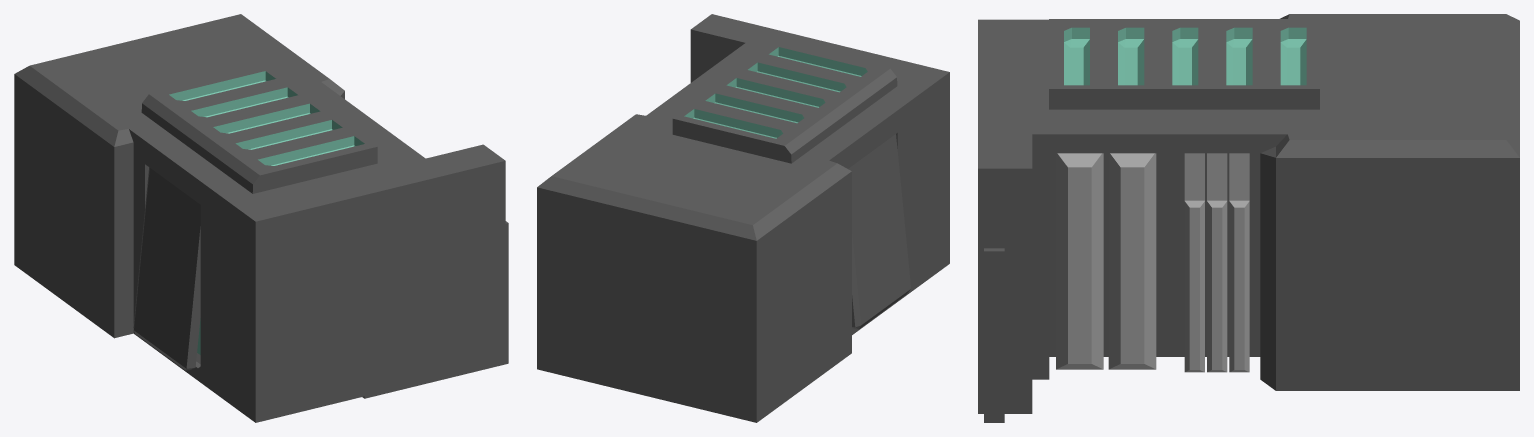
Rendered from NotAPlug0.fbx.
3 renders of one model, left to right at view 1: azimuth 30°, elevation 25°; view 2: azimuth 150°, elevation 25°; view 3: azimuth 270°, elevation 25°, orthographic. The views are drawn at different scales.
Parts seen in each view (by area): view 1: NotAPlug0; view 2: NotAPlug0; view 3: NotAPlug0.
Boxes of the visible parts, left/top/right/bottom form: NotAPlug0: left=14, top=14, right=508, bottom=422; NotAPlug0: left=537, top=14, right=949, bottom=422; NotAPlug0: left=978, top=14, right=1519, bottom=422.
Bounding box in the file's own units: 14.28 × 11.59 × 20.
